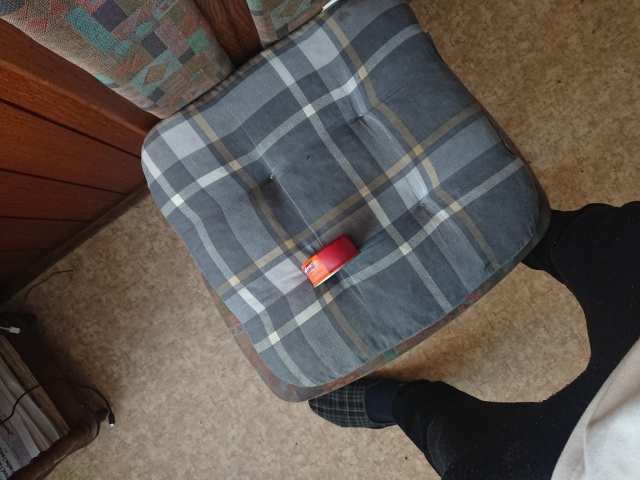Gavrilovic Pork Liver Pate 100g: (298, 230, 363, 291)
